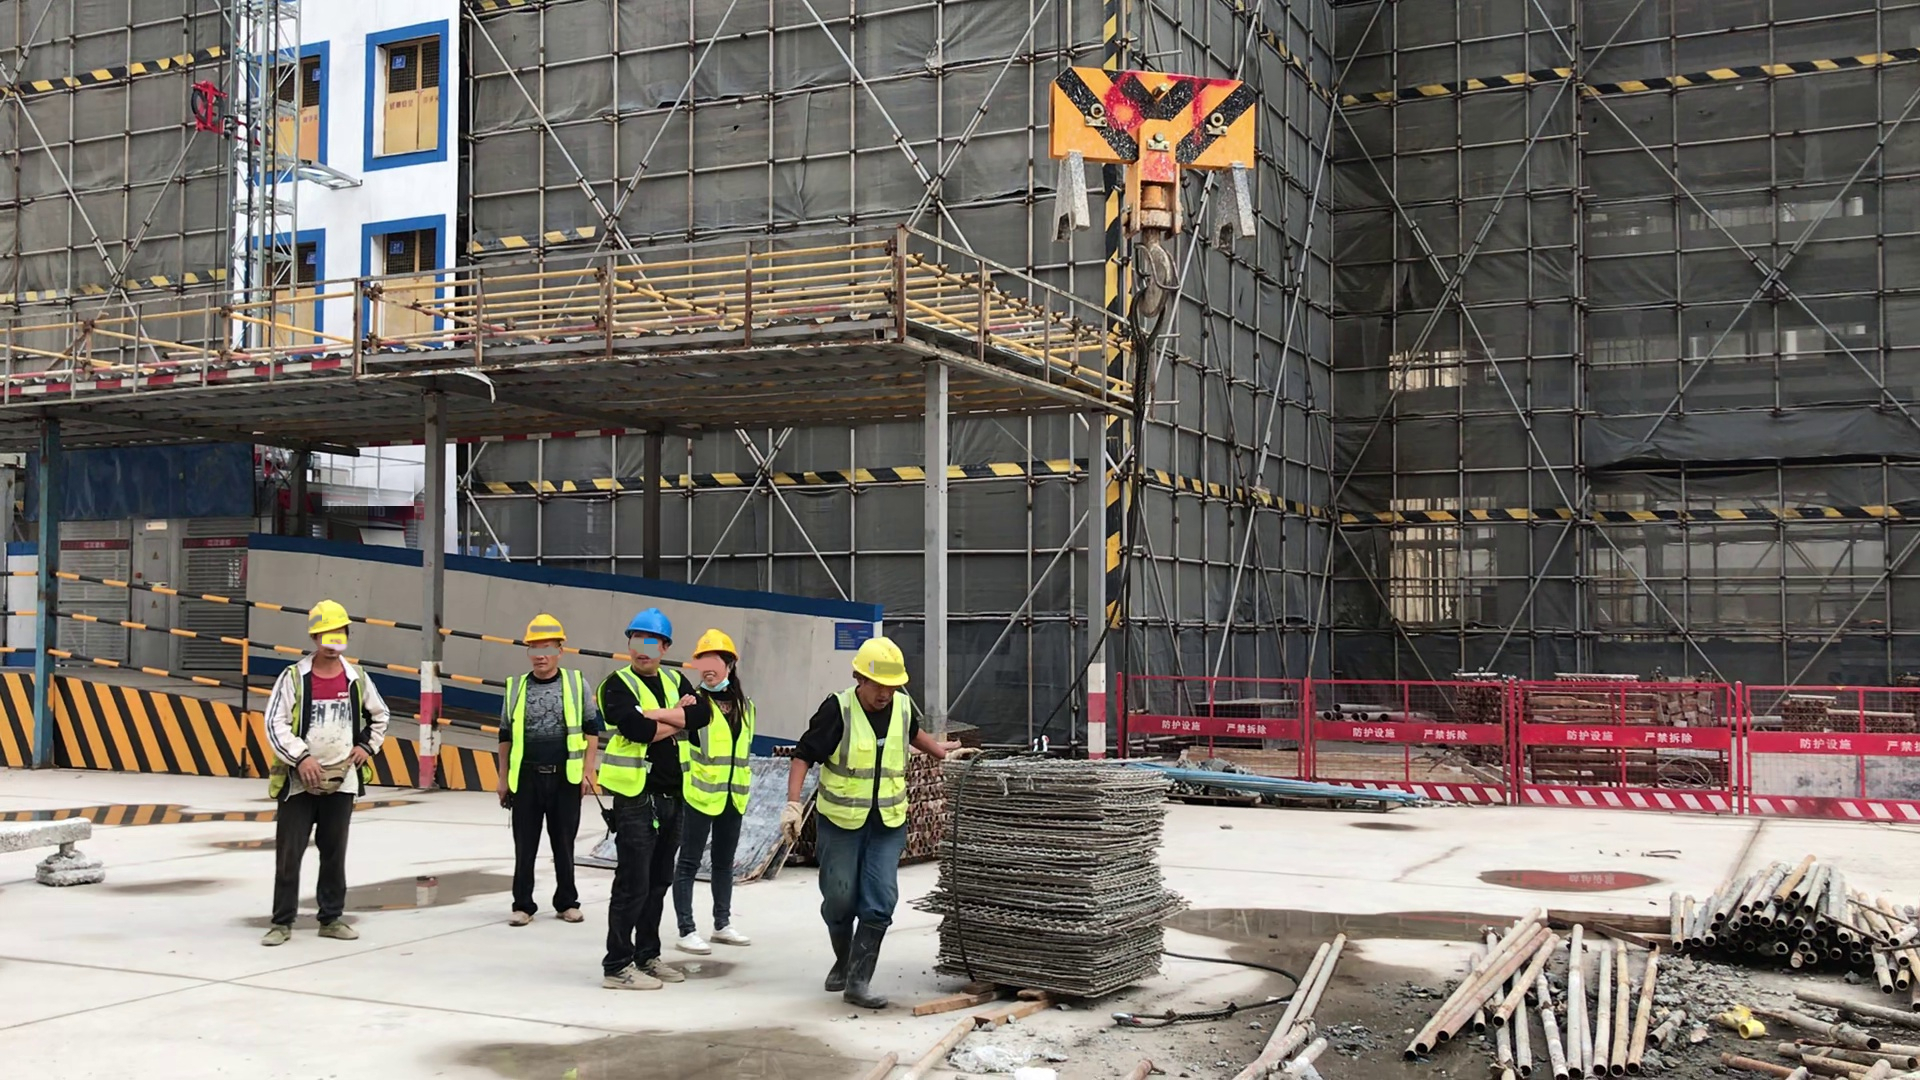fence: (10, 546, 803, 817), (1103, 657, 1920, 831)
helmet: (846, 630, 921, 698), (299, 587, 357, 640), (617, 608, 676, 647), (520, 612, 571, 643), (698, 629, 740, 665)
hook: (1023, 48, 1277, 384)
person: (786, 625, 948, 1018), (250, 584, 400, 951), (608, 600, 705, 1013), (492, 601, 601, 932), (682, 630, 769, 969)
scaffold: (1391, 901, 1670, 1080), (1660, 857, 1920, 1006), (906, 745, 950, 872)
vest: (279, 647, 379, 804), (819, 684, 914, 842), (606, 663, 684, 808), (685, 684, 758, 821), (510, 665, 586, 799)
